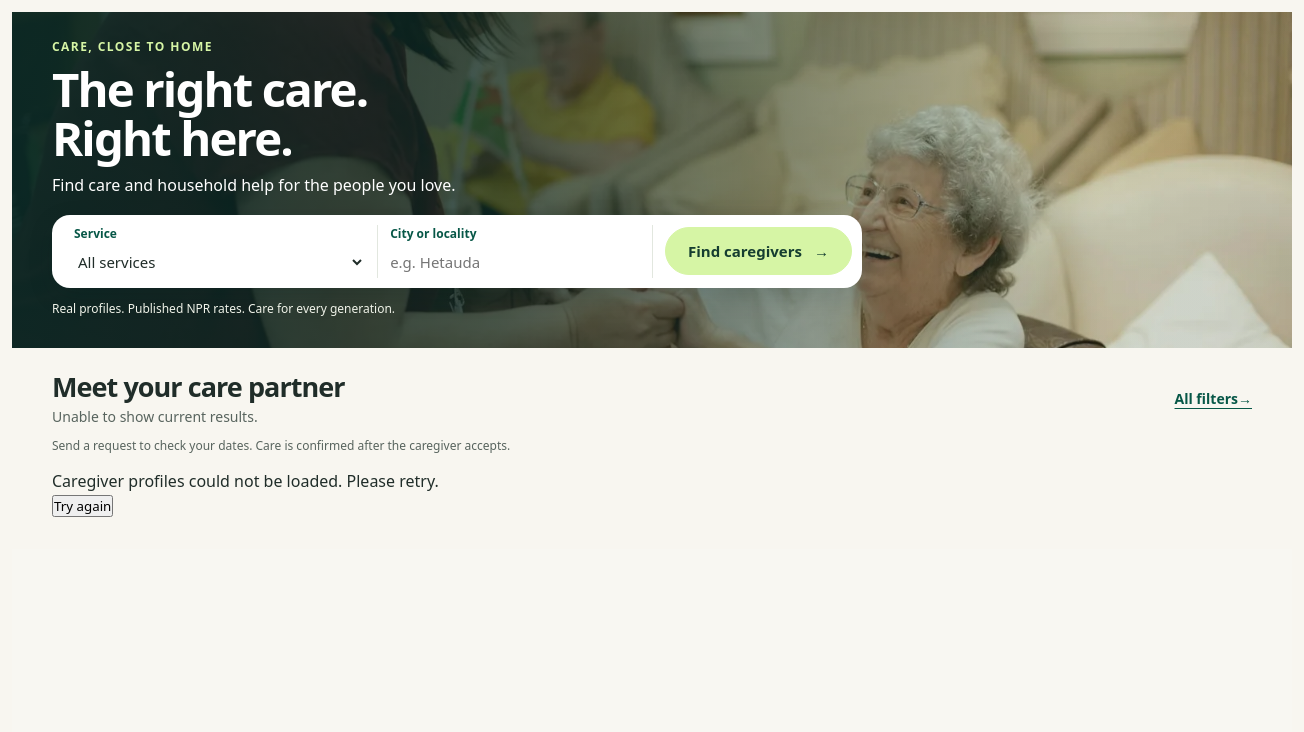
Test: failed public lookup provides a retryable error
Expected: the text "Caregiver profiles could not be loaded. Please retry." is shown, [52, 470, 439, 492]
Click the button "Try again": (83, 506) [52, 494, 113, 516]
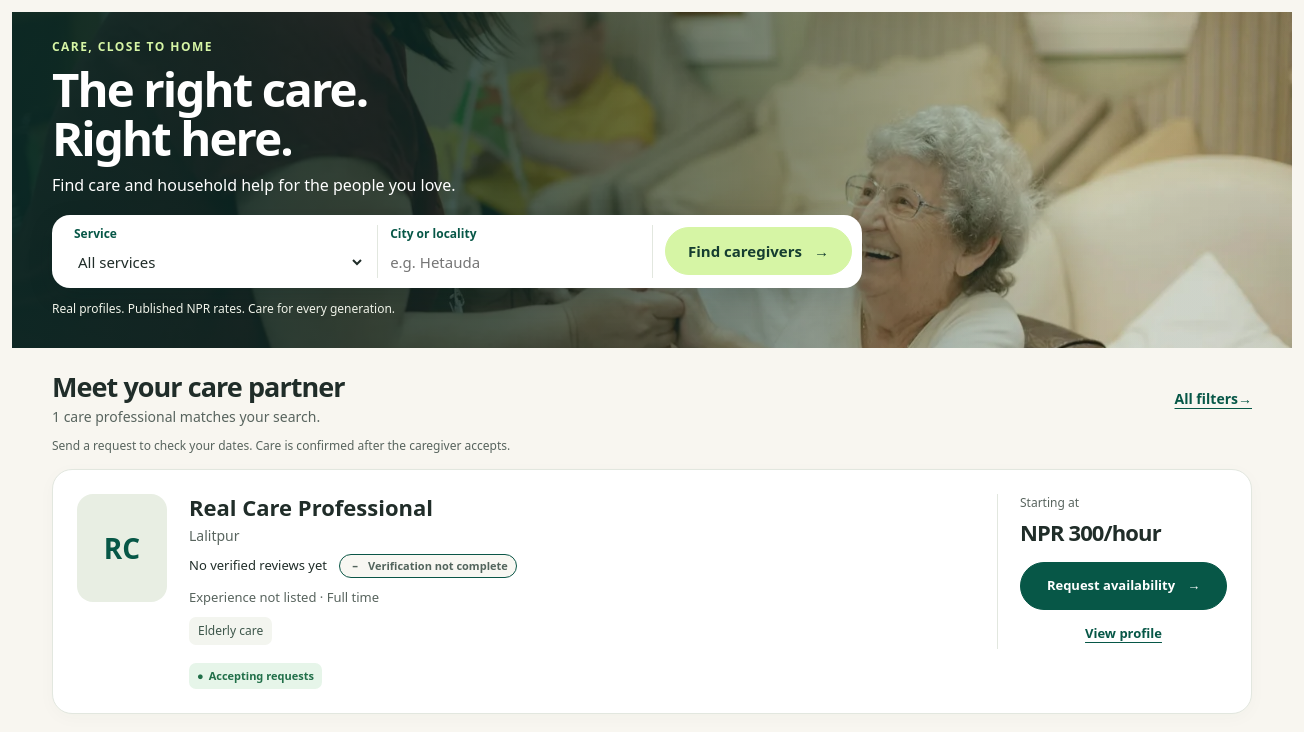
Now the heading "Real Care Professional" is shown, box [189, 494, 433, 520]
